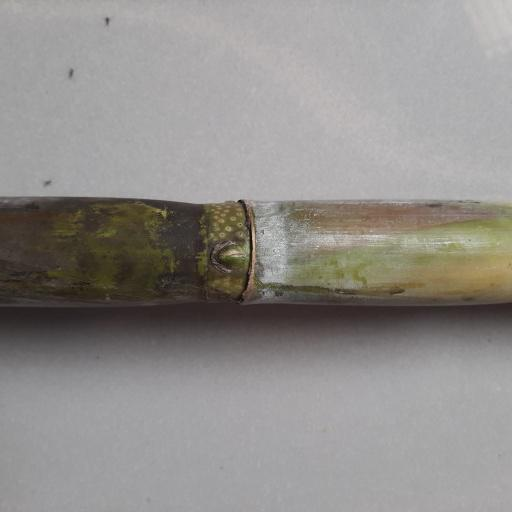Bud: (212, 243, 248, 270)
